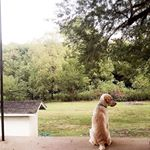puppy: (84, 90, 120, 150)
